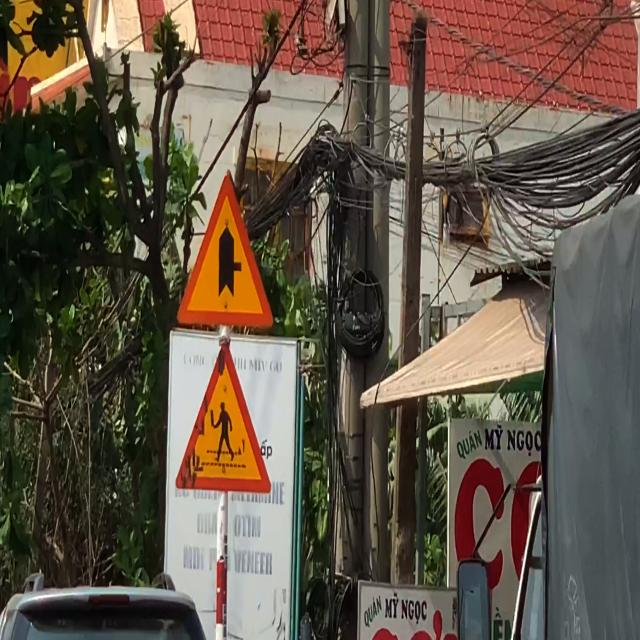Giao voi duong khong uu tien: (177, 170, 276, 329)
Nguoi di bo cat ngang: (174, 337, 272, 495)
